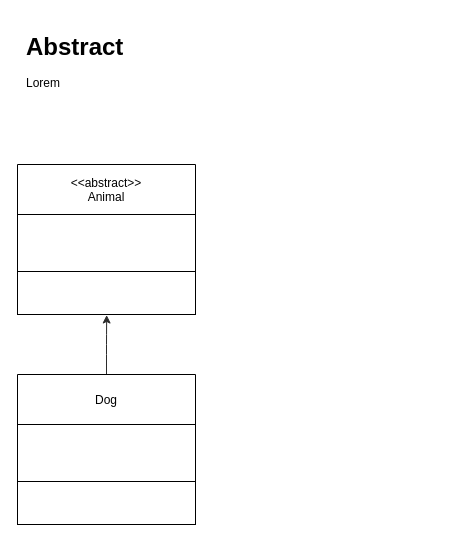
The diagram is 461 pixels wide and 544 high, and some of its shapes have lost their labels. Each missing label, with the centre of its shape:
"# makeNoise(): string" belongs at (x=106, y=502).
"# makeNoise(): string + makeSound()" belongs at (x=106, y=292).
